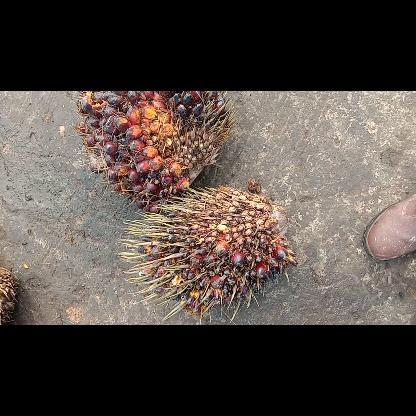Kurang masak: (73, 91, 236, 213)
TBS abnormal: (116, 185, 298, 323)
